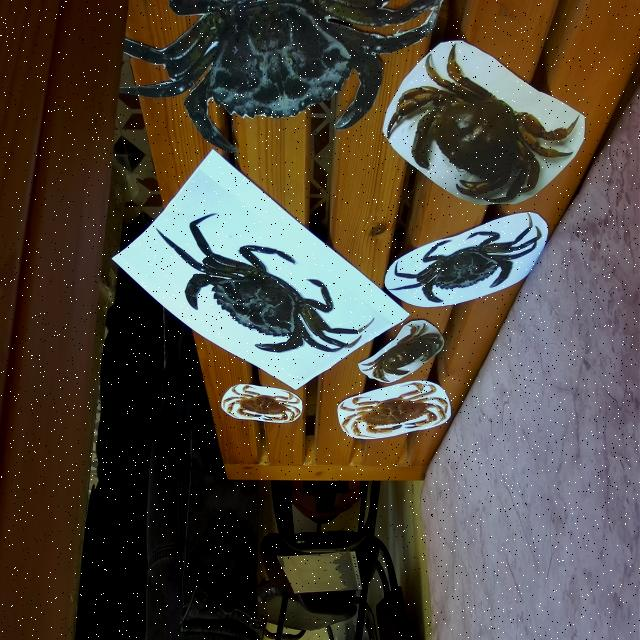European_Green_Crab: (145, 167, 374, 424), (98, 0, 448, 157), (384, 209, 546, 322)
